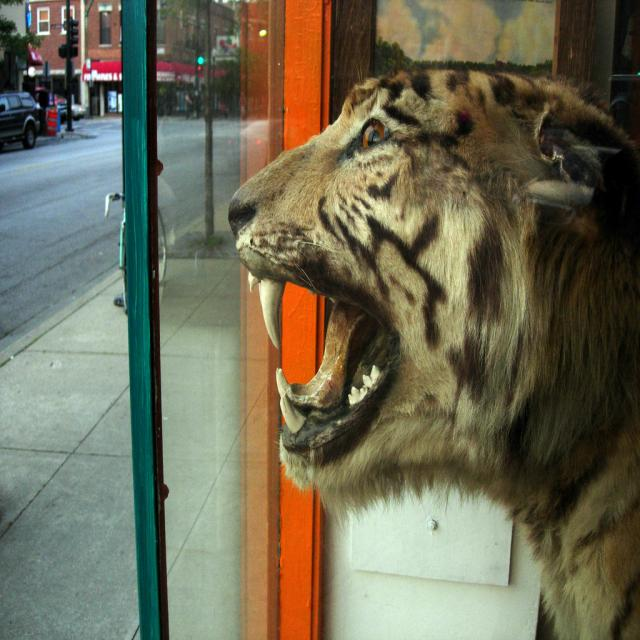Tiger: (228, 69, 640, 639)
